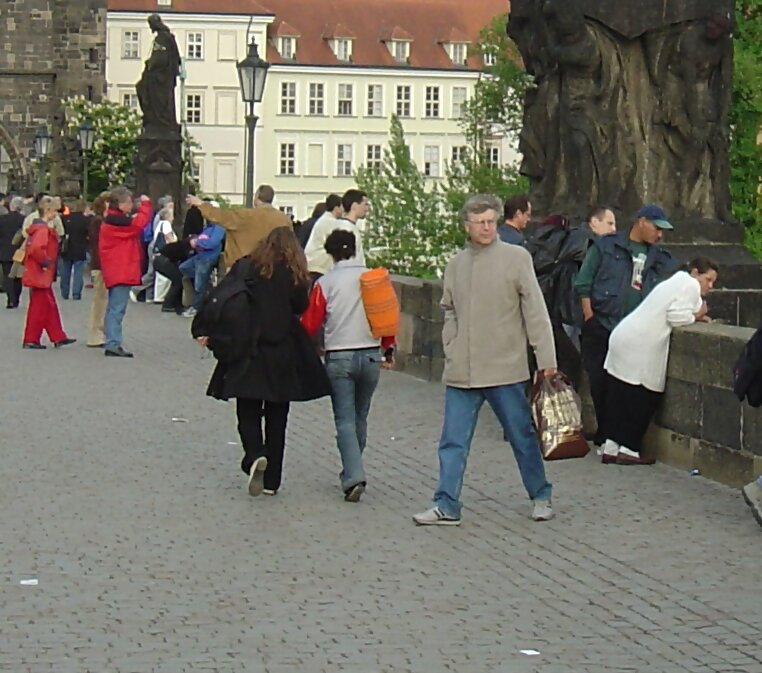person: (412, 195, 556, 527), (195, 219, 309, 494), (602, 249, 719, 465), (311, 221, 397, 503), (583, 204, 669, 468), (186, 182, 295, 270), (22, 193, 79, 353), (103, 186, 152, 356), (152, 205, 184, 310), (340, 186, 375, 263), (497, 196, 547, 244)
